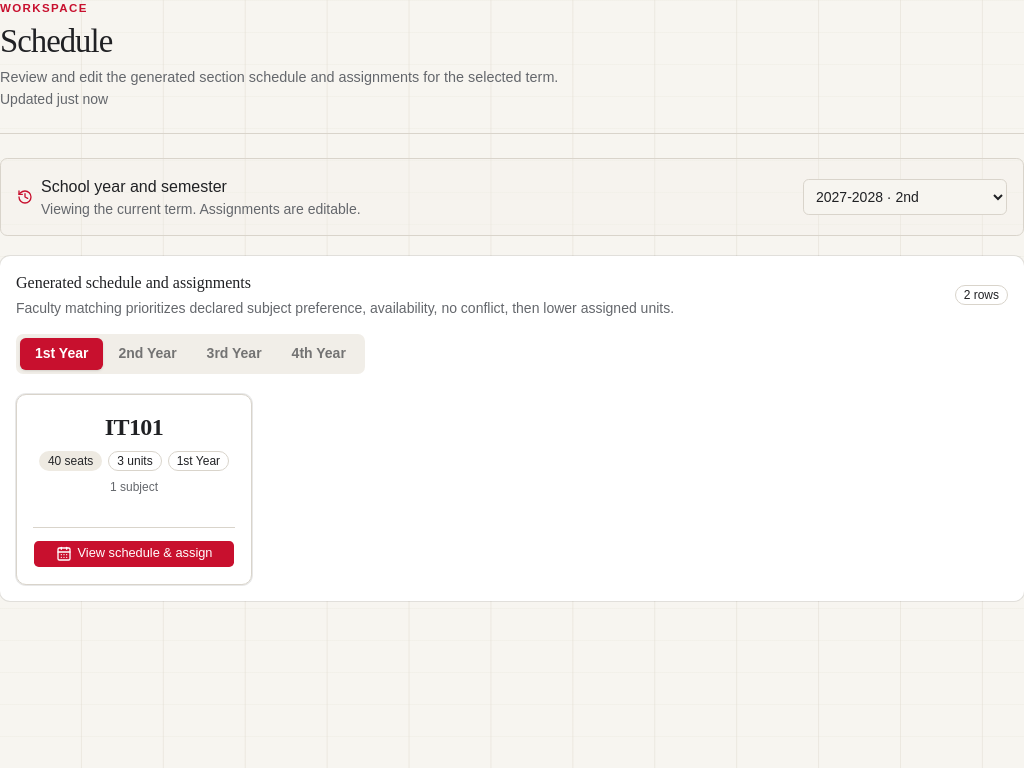
ScheduleWorkspace › keeps a section editable while its plan is submitted and pending Dean/Executive Director review
Click the tab "2nd Year" at x=148, y=354, box [104,338,192,370]
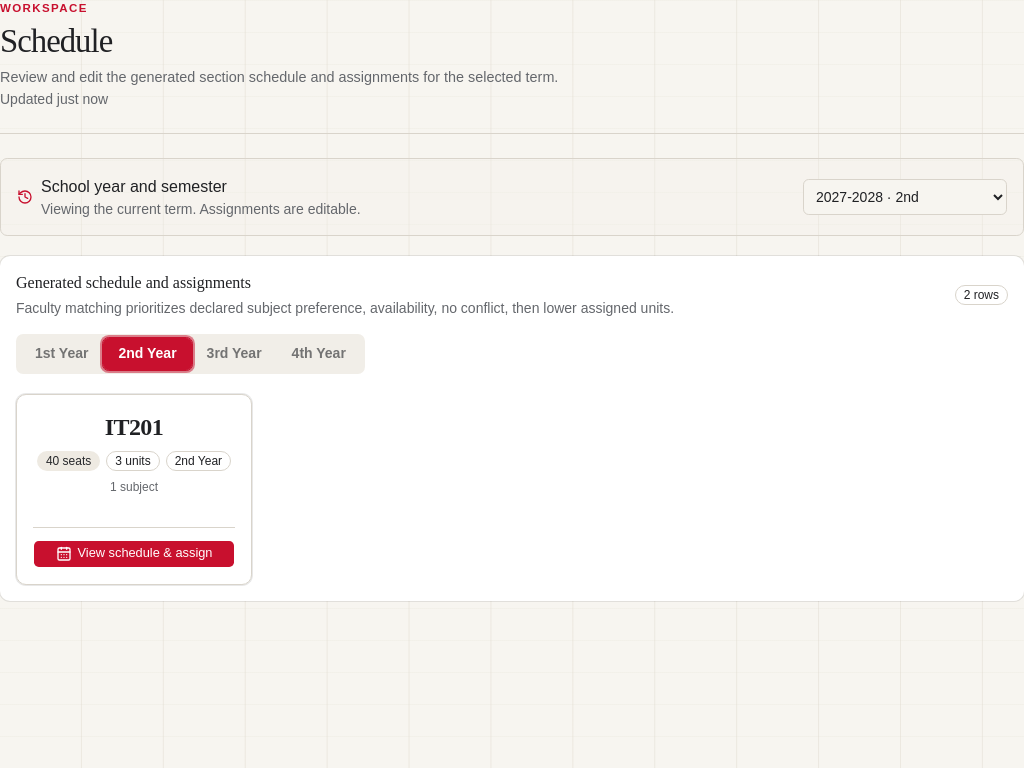
Click the button "View schedule & assign" at x=134, y=554, box [33,540,235,568]
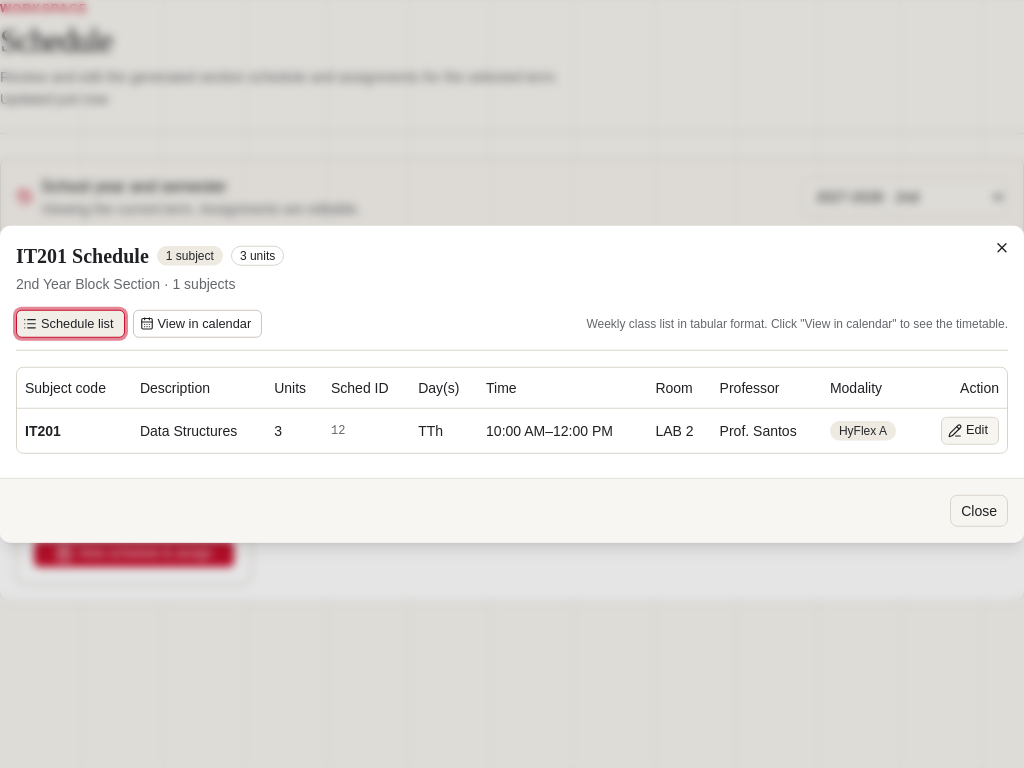
Expected: the button "Edit" is enabled
Click the button "Edit" at x=970, y=430, box [941,416,999,444]
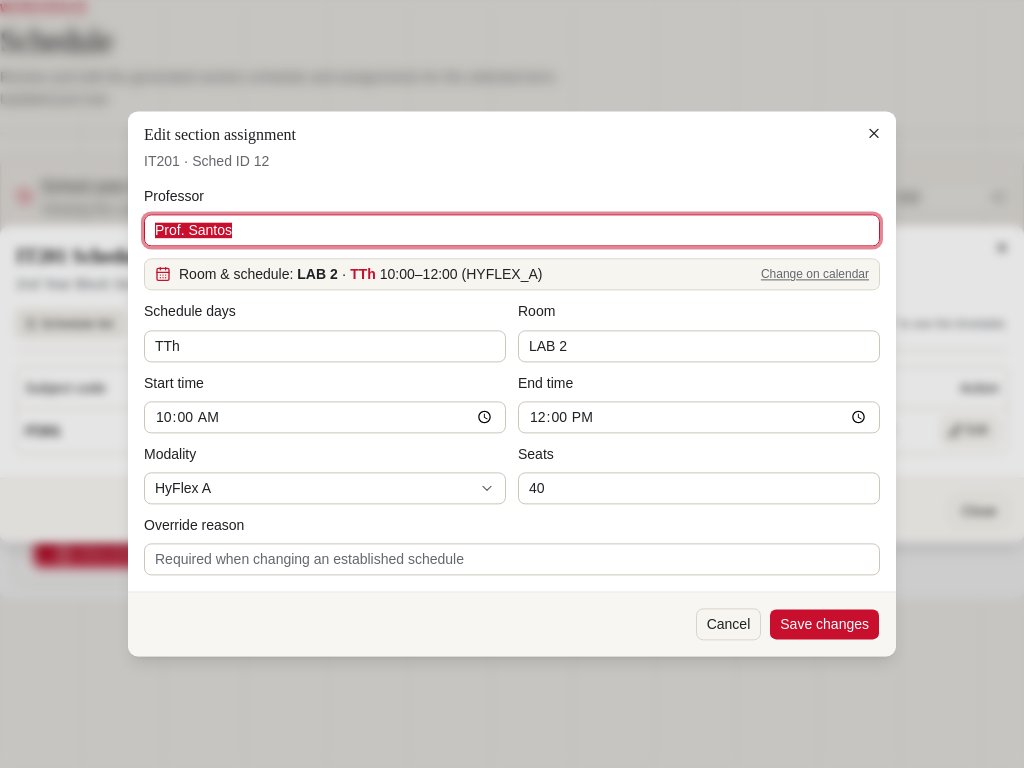
Expected: the dialog "Edit section assignment" is shown, [128,111,896,657]
